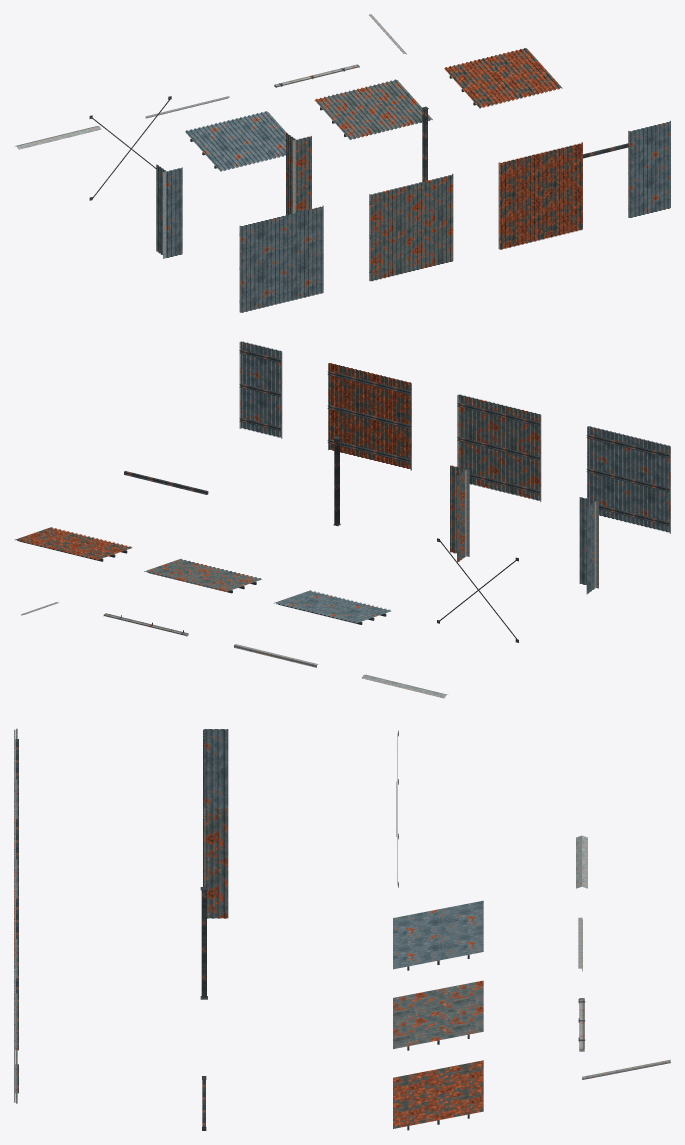
File: PROJECT_Z_Industrial_Metal_Siding_Kit.glb
3 renders of one model, top to bottom at view 1: azimuth 30°, elevation 25°; view 2: azimuth 150°, elevation 25°; view 3: azimuth 270°, elevation 25°, orthographic. The views are drawn at different scales.
Visible parts, largest first — view 1: WALL_4000x4000_RUST_LIGHT__Cladding_1p2mm_Corrugated, WALL_4000x4000_INTACT__Cladding_1p2mm_Corrugated, WALL_4000x4000_RUST_HEAVY__Cladding_1p2mm_Corrugated, ROOF_SHEET_4000x3000_RUST_HEAVY__Roof_Cladding_Corrugated, ROOF_SHEET_4000x3000_RUST_LIGHT__Roof_Cladding_Corrugated, ROOF_SHEET_4000x3000_INTACT__Roof_Cladding_Corrugated, WALL_2000x4000_HALF_BAY__Cladding_1p2mm_Corrugated, CORNER_EXTERNAL_4000__FoldedSheet_XLeg_800, CORNER_INTERNAL_4000__FoldedSheet_XLeg_800, CORNER_EXTERNAL_4000__FoldedSheet_YLeg_800, CORNER_INTERNAL_4000__FoldedSheet_YLeg_800, ROOF_RIDGE_CAP_4000__RidgeCap_FoldedSheet; view 2: WALL_4000x4000_RUST_LIGHT__Cladding_1p2mm_Corrugated, WALL_4000x4000_RUST_HEAVY__Cladding_1p2mm_Corrugated, WALL_4000x4000_INTACT__Cladding_1p2mm_Corrugated, WALL_2000x4000_HALF_BAY__Cladding_1p2mm_Corrugated, ROOF_SHEET_4000x3000_INTACT__Roof_Cladding_Corrugated, ROOF_SHEET_4000x3000_RUST_HEAVY__Roof_Cladding_Corrugated, ROOF_SHEET_4000x3000_RUST_LIGHT__Roof_Cladding_Corrugated, WALL_4000x4000_RUST_HEAVY__Girt_CChannels_Three, WALL_4000x4000_RUST_LIGHT__Girt_CChannels_Three, WALL_4000x4000_INTACT__Girt_CChannels_Three, CORNER_EXTERNAL_4000__FoldedSheet_YLeg_800, CORNER_EXTERNAL_4000__FoldedSheet_XLeg_800 (+3 smaller); view 3: ROOF_SHEET_4000x3000_INTACT__Roof_Cladding_Corrugated, ROOF_SHEET_4000x3000_RUST_HEAVY__Roof_Cladding_Corrugated, ROOF_SHEET_4000x3000_RUST_LIGHT__Roof_Cladding_Corrugated, CORNER_INTERNAL_4000__FoldedSheet_YLeg_800, CORNER_EXTERNAL_4000__FoldedSheet_YLeg_800, SUPPORT_I_COLUMN_4000__ISection_WebAndFlanges, ROOF_RIDGE_CAP_4000__RidgeCap_FoldedSheet.
Part boxes in pixels (x1=…): WALL_4000x4000_RUST_LIGHT__Cladding_1p2mm_Corrugated: x1=370, y1=174, x2=453, y2=281; WALL_4000x4000_INTACT__Cladding_1p2mm_Corrugated: x1=240, y1=206, x2=323, y2=312; WALL_4000x4000_RUST_HEAVY__Cladding_1p2mm_Corrugated: x1=500, y1=142, x2=582, y2=249; ROOF_SHEET_4000x3000_RUST_HEAVY__Roof_Cladding_Corrugated: x1=444, y1=48, x2=562, y2=108; ROOF_SHEET_4000x3000_RUST_LIGHT__Roof_Cladding_Corrugated: x1=314, y1=79, x2=432, y2=139; ROOF_SHEET_4000x3000_INTACT__Roof_Cladding_Corrugated: x1=185, y1=111, x2=286, y2=171; WALL_2000x4000_HALF_BAY__Cladding_1p2mm_Corrugated: x1=629, y1=121, x2=670, y2=217; CORNER_EXTERNAL_4000__FoldedSheet_XLeg_800: x1=166, y1=167, x2=182, y2=257; CORNER_INTERNAL_4000__FoldedSheet_XLeg_800: x1=295, y1=136, x2=311, y2=212; CORNER_EXTERNAL_4000__FoldedSheet_YLeg_800: x1=156, y1=164, x2=165, y2=254; CORNER_INTERNAL_4000__FoldedSheet_YLeg_800: x1=286, y1=133, x2=295, y2=214; ROOF_RIDGE_CAP_4000__RidgeCap_FoldedSheet: x1=14, y1=126, x2=101, y2=149; WALL_4000x4000_RUST_LIGHT__Cladding_1p2mm_Corrugated: x1=458, y1=394, x2=540, y2=500; WALL_4000x4000_RUST_HEAVY__Cladding_1p2mm_Corrugated: x1=329, y1=363, x2=411, y2=468; WALL_4000x4000_INTACT__Cladding_1p2mm_Corrugated: x1=588, y1=426, x2=670, y2=532; WALL_2000x4000_HALF_BAY__Cladding_1p2mm_Corrugated: x1=241, y1=341, x2=281, y2=437; ROOF_SHEET_4000x3000_INTACT__Roof_Cladding_Corrugated: x1=273, y1=590, x2=391, y2=623; ROOF_SHEET_4000x3000_RUST_HEAVY__Roof_Cladding_Corrugated: x1=14, y1=527, x2=132, y2=560; ROOF_SHEET_4000x3000_RUST_LIGHT__Roof_Cladding_Corrugated: x1=144, y1=559, x2=261, y2=591; WALL_4000x4000_RUST_HEAVY__Girt_CChannels_Three: x1=327, y1=371, x2=410, y2=462; WALL_4000x4000_RUST_LIGHT__Girt_CChannels_Three: x1=457, y1=402, x2=540, y2=494; WALL_4000x4000_INTACT__Girt_CChannels_Three: x1=586, y1=434, x2=669, y2=526; CORNER_EXTERNAL_4000__FoldedSheet_YLeg_800: x1=586, y1=501, x2=594, y2=594; CORNER_EXTERNAL_4000__FoldedSheet_XLeg_800: x1=579, y1=497, x2=595, y2=584; ROOF_SHEET_4000x3000_INTACT__Roof_Cladding_Corrugated: x1=393, y1=900, x2=483, y2=969; ROOF_SHEET_4000x3000_RUST_HEAVY__Roof_Cladding_Corrugated: x1=393, y1=1060, x2=483, y2=1128; ROOF_SHEET_4000x3000_RUST_LIGHT__Roof_Cladding_Corrugated: x1=393, y1=980, x2=483, y2=1048; CORNER_INTERNAL_4000__FoldedSheet_YLeg_800: x1=205, y1=808, x2=228, y2=918; CORNER_EXTERNAL_4000__FoldedSheet_YLeg_800: x1=204, y1=729, x2=228, y2=809; SUPPORT_I_COLUMN_4000__ISection_WebAndFlanges: x1=201, y1=887, x2=206, y2=998; ROOF_RIDGE_CAP_4000__RidgeCap_FoldedSheet: x1=576, y1=835, x2=587, y2=888.
Bounding box in the file's own units: 22.89 × 4.09 × 21.74.
Materials: 5 (5 with a texture image).
